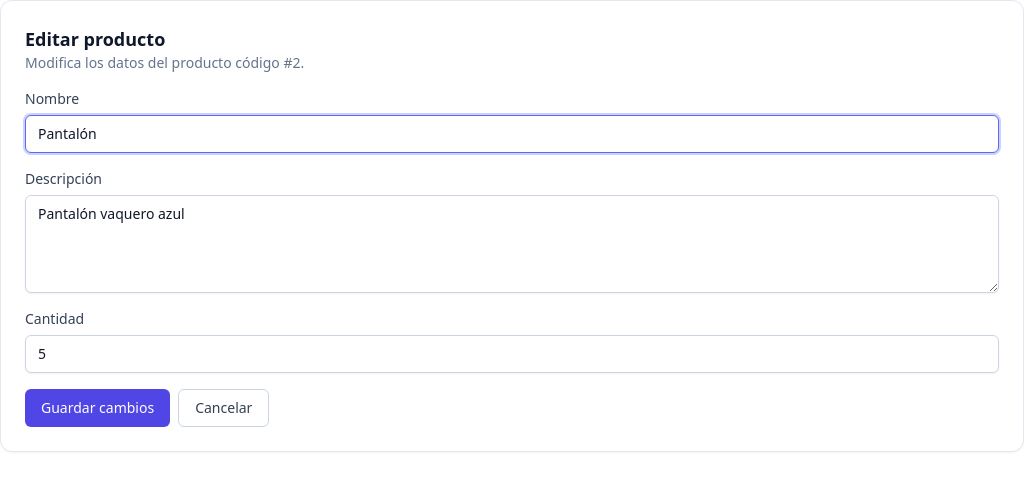
Scenario: ProductForm › edit mode › rejects editing when the name collides with another product
Step 1. Replace the text in the field labelled "Nombre" with "  CamisETA  " → (512, 134), box top-left (25, 115), bottom-right (999, 153)
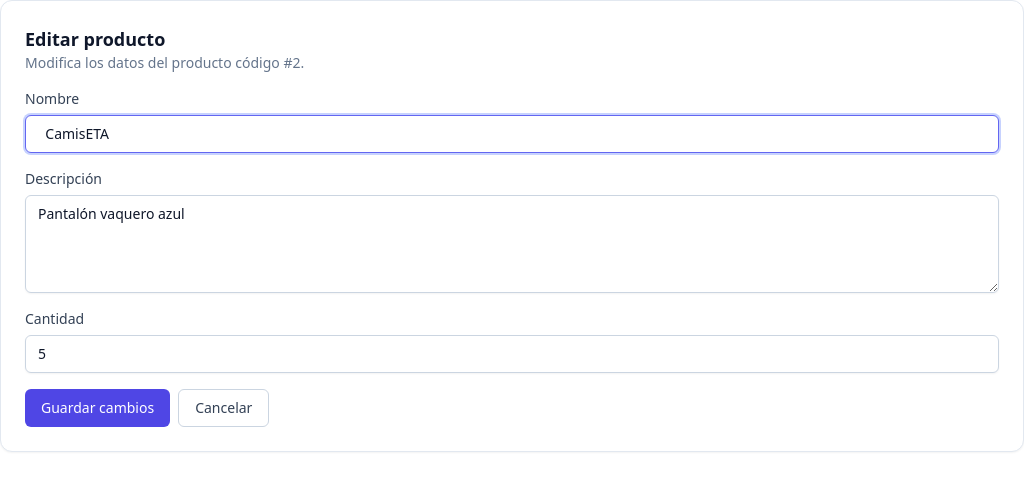
Step 2. Click the button "Guardar cambios" → (98, 408), box top-left (25, 389), bottom-right (170, 427)
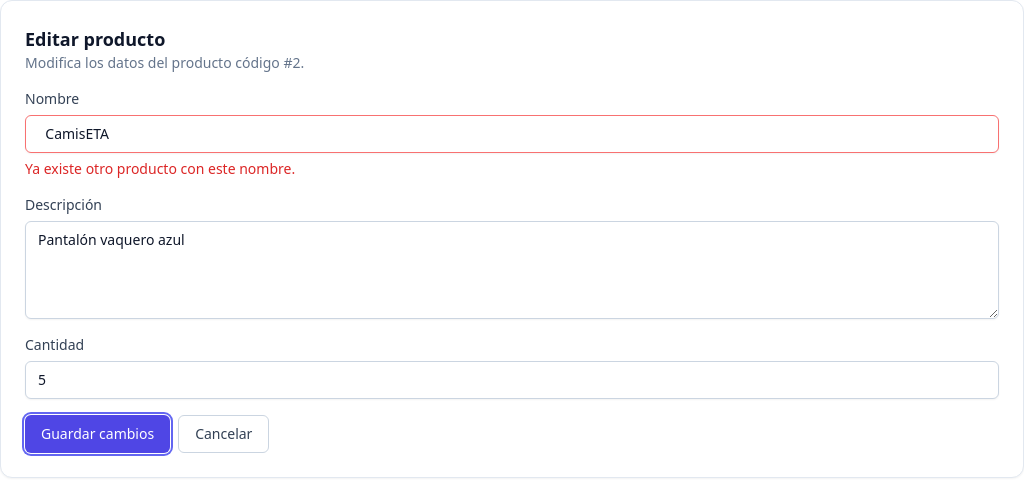
Expected: the text "Ya existe otro producto con este nombre." is shown, top-left (25, 159), bottom-right (295, 178)
